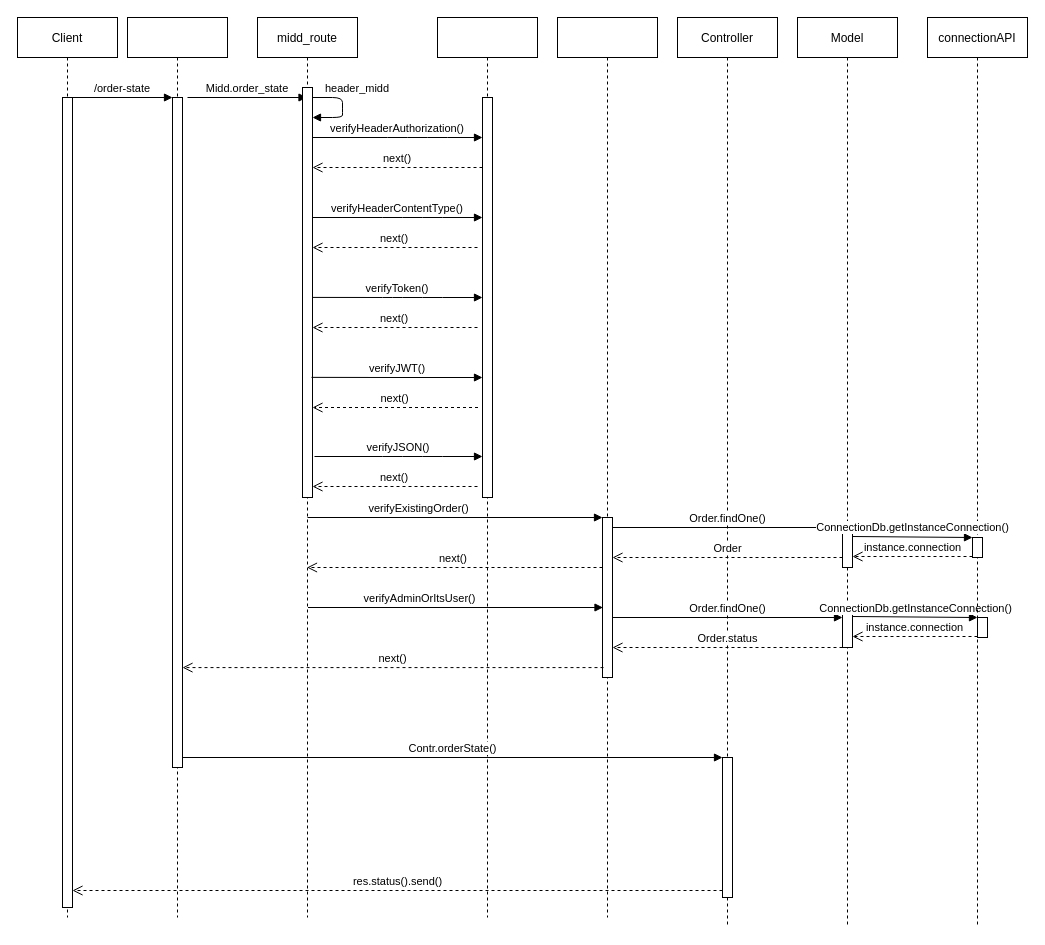
Image size: 1045x945. Some labels were removed from this diagram. Here are the shapes that lost their labels. From the top down, the box of each, then its label:
(126, 16, 228, 918): router
(436, 16, 538, 918): midd_function Generic
(556, 16, 658, 918): midd_function Orders
